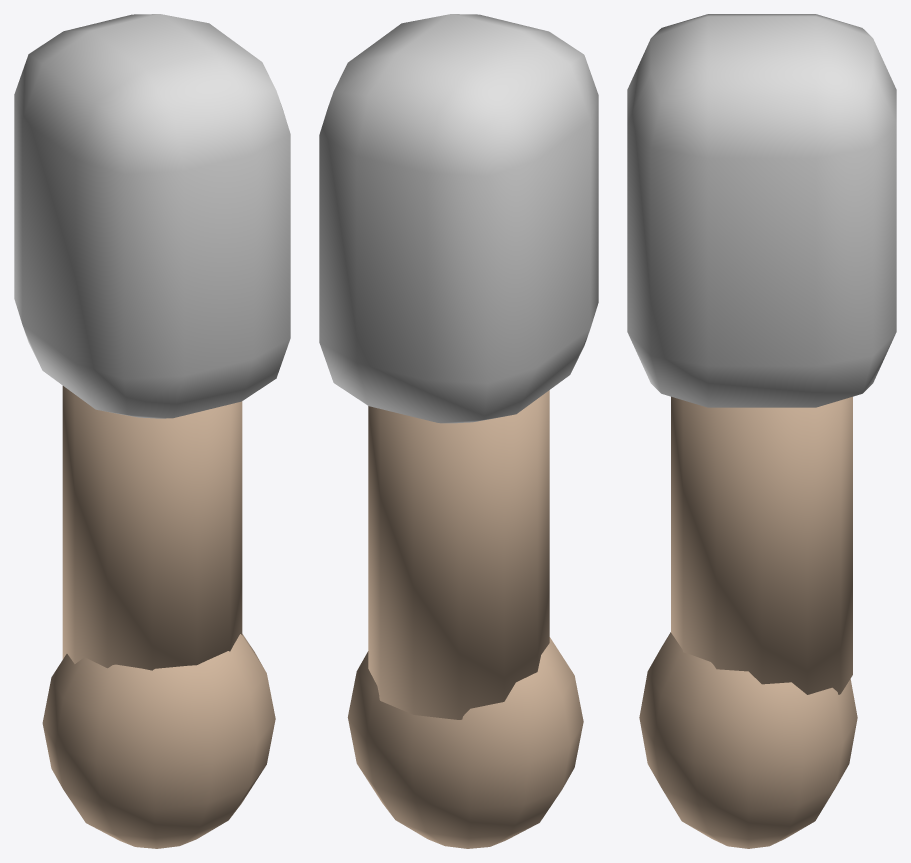
The model's file is person_arm.glb.
3 views of the same model, side by side, from view 1: azimuth 30°, elevation 25°; view 2: azimuth 150°, elevation 25°; view 3: azimuth 270°, elevation 25° (orthographic).
Parts seen in each view (by area): view 1: person_arm; view 2: person_arm; view 3: person_arm.
Part boxes in pixels (x1=…): person_arm: x1=14, y1=14, x2=290, y2=848; person_arm: x1=319, y1=14, x2=598, y2=848; person_arm: x1=627, y1=14, x2=896, y2=848.
Bounding box in the file's own units: 0.036 × 0.1318 × 0.04.
